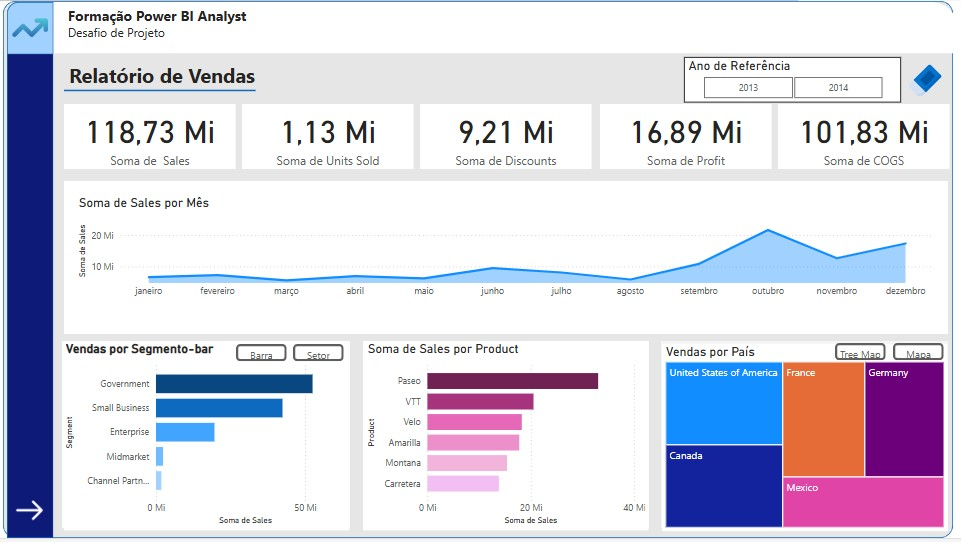

This screenshot's page, from the dashboard's own definition file:
{"tool":"powerbi","page":{"name":"Página 1","canvas":[1280,720],"ordinal":0},"visuals":[{"type":"shape","box":[0,0,1273.8,720],"z":0},{"type":"image","title":"clean","box":[1204.7,78.6,64.9,54.3],"z":0,"group":"g3"},{"type":"group","id":"g1","title":"forma","box":[82,138.7,1185.2,87.4],"z":0,"group":"g2"},{"type":"shape","box":[82.1,139,226.2,86.5],"z":0,"group":"g1"},{"type":"shape","box":[5.3,1.3,62.2,718.8],"z":1000},{"type":"slicer","title":"Ano de Referência","fields":{"Values":["Sheet1.Date.Variation.Hierarquia de datas.Ano"]},"box":[913.5,75.1,291.2,61.5],"z":1000,"group":"g3"},{"type":"card","fields":{"Values":["Sum(Sheet1.Units Sold)"]},"box":[320.3,139,230.3,87.4],"z":1000,"group":"g2"},{"type":"shape","box":[320.9,139,226.2,86.5],"z":1000,"group":"g1"},{"type":"shape","box":[5.8,1.2,62.3,70.4],"z":2000},{"type":"card","fields":{"Values":["Sum(Sheet1.Discounts)"]},"box":[559.9,139,230.3,87.4],"z":2000,"group":"g2"},{"type":"shape","box":[560.9,139,226.2,86.5],"z":2000,"group":"g1"},{"type":"image","title":"logo_grow","box":[5.8,6.9,62.3,57.7],"z":3000},{"type":"card","fields":{"Values":["Sum(Sheet1.Profit)"]},"box":[800.8,139,230.3,87.4],"z":3000,"group":"g2"},{"type":"shape","box":[800.9,139,226.2,86.5],"z":3000,"group":"g1"},{"type":"shape","box":[68.1,1.2,1211.5,69.2],"z":4000},{"type":"card","fields":{"Values":["Sum(Sheet1.COGS)"]},"box":[1039.1,139,230.3,87.4],"z":4000,"group":"g2"},{"type":"shape","box":[1041.1,139,226.2,86.5],"z":4000,"group":"g1"},{"type":"textbox","box":[81.9,1.2,531.9,58.8],"z":5000},{"type":"card","fields":{"Values":["Sum(Sheet1. Sales)"]},"box":[82,138.7,230.3,87.4],"z":5000,"group":"g1"},{"type":"shape","box":[82.1,116.5,256.8,6.6],"z":6000},{"type":"textbox","box":[77.6,76.1,270.7,46.8],"z":7000},{"type":"shape","box":[82.1,240.9,1184.7,205.2],"z":8000},{"type":"shape","box":[82.1,455.3,382.5,254.1],"z":9000},{"type":"shape","box":[483.1,455.3,382.5,254.1],"z":10000},{"type":"shape","box":[884.2,455.3,382.5,254.1],"z":11000},{"type":"image","box":[4,657.9,62.2,49],"z":12000},{"type":"areaChart","fields":{"Category":["Sheet1.Date.Variation.Hierarquia de datas.Mês"],"Y":["Sum(Sheet1. Sales)"]},"box":[96.6,259.4,1155.6,146.9],"z":13000},{"type":"clusteredBarChart","title":"Vendas por Segmento-bar","fields":{"Category":["Sheet1.Segment"],"Y":["Sum(Sheet1. Sales)"]},"box":[78.6,455.8,385.9,251.5],"z":14000},{"type":"clusteredBarChart","fields":{"Category":["Sheet1.Product"],"Y":["Sum(Sheet1. Sales)"]},"box":[483.7,455.8,382.4,251.5],"z":15000},{"type":"map","fields":{"Category":["Sheet1.Country"],"Size":["Avg(Sheet1. Sales)"]},"box":[881.9,455.8,384.2,251.5],"z":16000},{"type":"actionButton","box":[1216.1,77.6,49.8,54.1],"z":17000},{"type":"group","id":"g2","title":"cartões","box":[82,138.7,1187.4,87.7],"z":18000},{"type":"group","id":"g3","title":"filtro por data","box":[913.5,75.1,356.1,61.5],"z":19000},{"type":"treemap","title":"Vendas por País","fields":{"Group":["Sheet1.Country"],"Values":["Avg(Sheet1. Sales)"]},"box":[883,460.2,383.2,250.9],"z":21000},{"type":"actionButton","box":[312.1,459.5,67.9,23.2],"z":22000},{"type":"actionButton","box":[389,459.5,67.9,23.2],"z":23000},{"type":"actionButton","box":[1115.8,458.4,67.9,23.2],"z":24000},{"type":"actionButton","box":[1192.7,458.4,67.9,23.2],"z":25000}]}

Visuals, with their boxes on the page's 1280x720 design canvas (x1, y1, x2, y2). These are canvas units, not pixel positions in the 961x542 screenshot, which may show the page scaled, cropped or inside an application window:
shape: (0, 0, 1274, 720)
"clean" image: (1205, 79, 1270, 133)
"forma" group: (82, 139, 1267, 226)
shape: (82, 139, 308, 226)
shape: (5, 1, 68, 720)
"Ano de Referência" slicer: (914, 75, 1205, 137)
card - Sum(Sheet1.Units Sold): (320, 139, 551, 226)
shape: (321, 139, 547, 226)
shape: (6, 1, 68, 72)
card - Sum(Sheet1.Discounts): (560, 139, 790, 226)
shape: (561, 139, 787, 226)
"logo_grow" image: (6, 7, 68, 65)
card - Sum(Sheet1.Profit): (801, 139, 1031, 226)
shape: (801, 139, 1027, 226)
shape: (68, 1, 1280, 70)
card - Sum(Sheet1.COGS): (1039, 139, 1269, 226)
shape: (1041, 139, 1267, 226)
textbox: (82, 1, 614, 60)
card - Sum(Sheet1. Sales): (82, 139, 312, 226)
shape: (82, 116, 339, 123)
textbox: (78, 76, 348, 123)
shape: (82, 241, 1267, 446)
shape: (82, 455, 465, 709)
shape: (483, 455, 866, 709)
shape: (884, 455, 1267, 709)
image: (4, 658, 66, 707)
areaChart - Sheet1.Date.Variation.Hierarquia de datas.Mês x Sum(Sheet1. Sales): (97, 259, 1252, 406)
"Vendas por Segmento-bar" clusteredBarChart: (79, 456, 464, 707)
clusteredBarChart - Sheet1.Product x Sum(Sheet1. Sales): (484, 456, 866, 707)
map - Sheet1.Country x Avg(Sheet1. Sales): (882, 456, 1266, 707)
actionButton: (1216, 78, 1266, 132)
"cartões" group: (82, 139, 1269, 226)
"filtro por data" group: (914, 75, 1270, 137)
"Vendas por País" treemap: (883, 460, 1266, 711)
actionButton: (312, 460, 380, 483)
actionButton: (389, 460, 457, 483)
actionButton: (1116, 458, 1184, 482)
actionButton: (1193, 458, 1261, 482)
